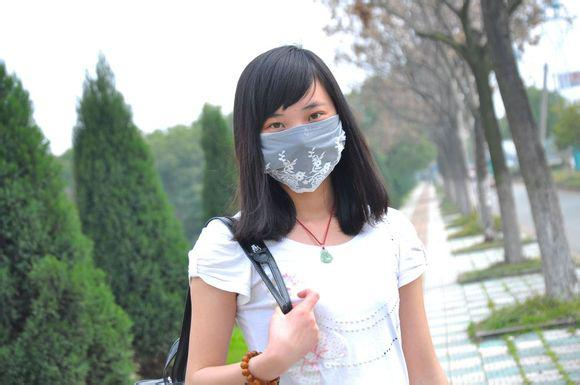OK: (254, 92, 349, 187)
